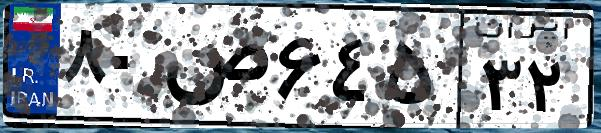0: (110, 28, 158, 98)
2: (525, 38, 570, 115)
3: (475, 38, 525, 113)
4: (330, 28, 385, 110)
5: (385, 28, 445, 110)
6: (270, 28, 330, 110)
8: (57, 26, 110, 100)
ص: (158, 20, 270, 120)
